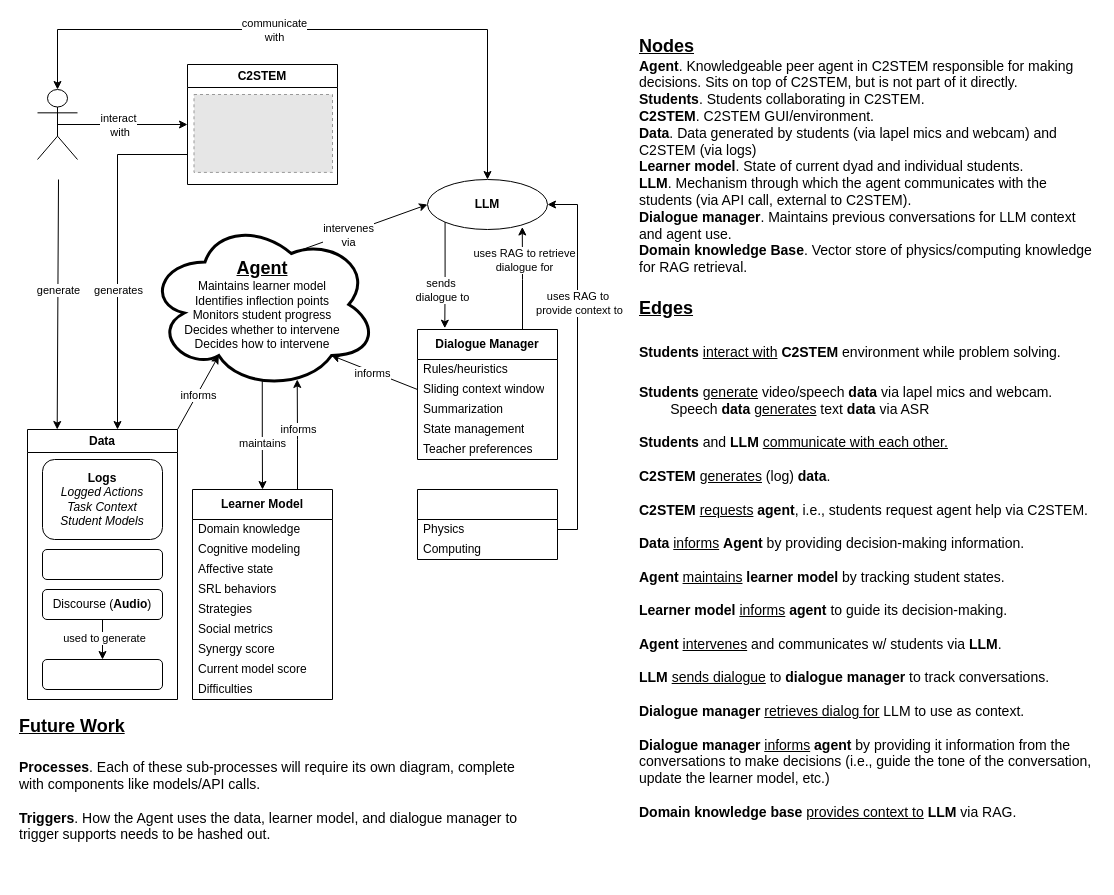
The diagram is 1114 pixels wide and 895 high, and some of its shapes have lost their labels. Grey dashed boxes stand in for pictures. Each missing label, with the box of its shape:
Domain KB: (416, 488, 558, 560)
Students: (36, 88, 78, 160)
Transcribed Speech ( Text ): (42, 658, 162, 690)
Video: (42, 548, 162, 580)
